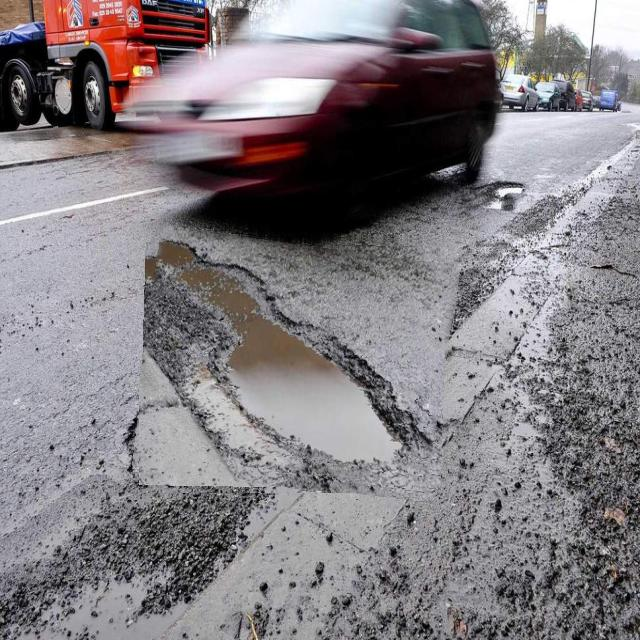Pothole: (139, 234, 455, 493)
